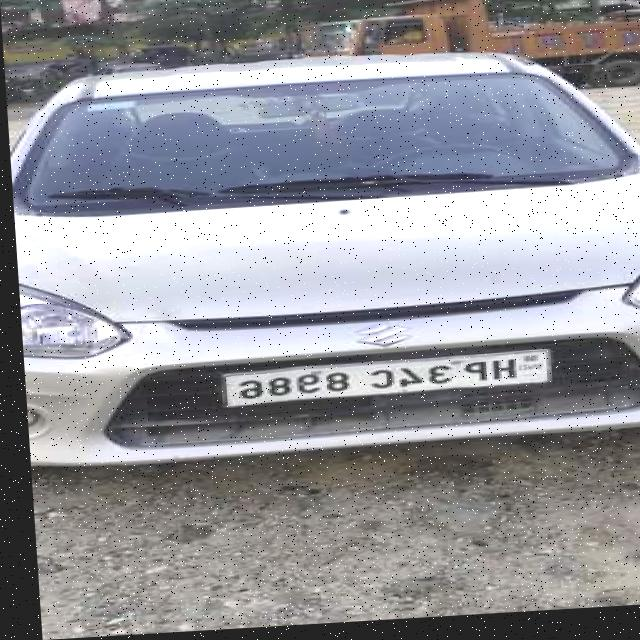plate: (211, 355, 550, 411)
